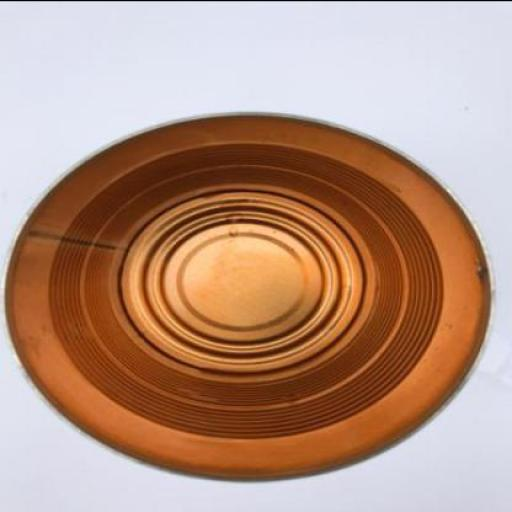metal: (1, 110, 491, 483)
